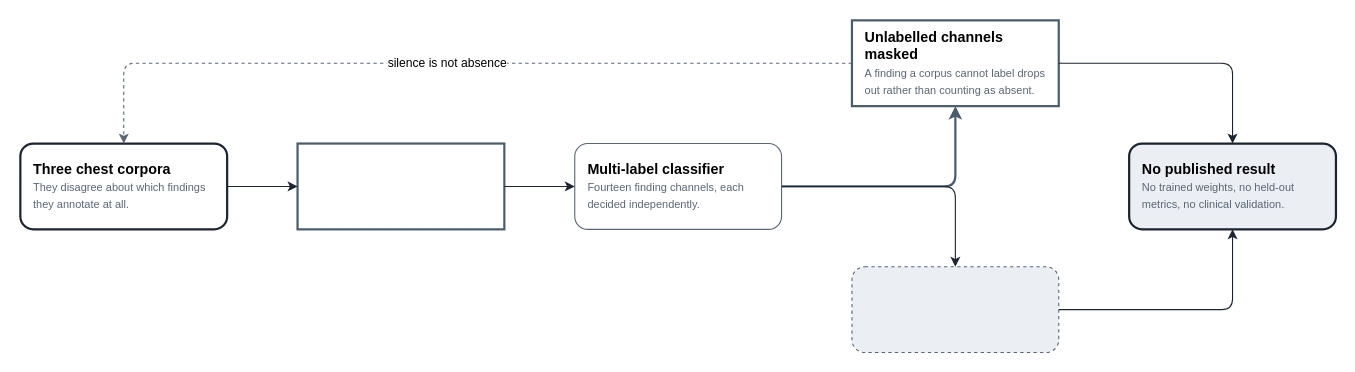
Image size: 1355x372. Some labels were removed from this diagram. Here are the shapes that lost their labels. From the top down, the centre of each, then its label:
the point at 400,186: Split by patient Not by image. One chest appears more than once.
the point at 955,309: Saliency Where the evidence for a channel was read from.
